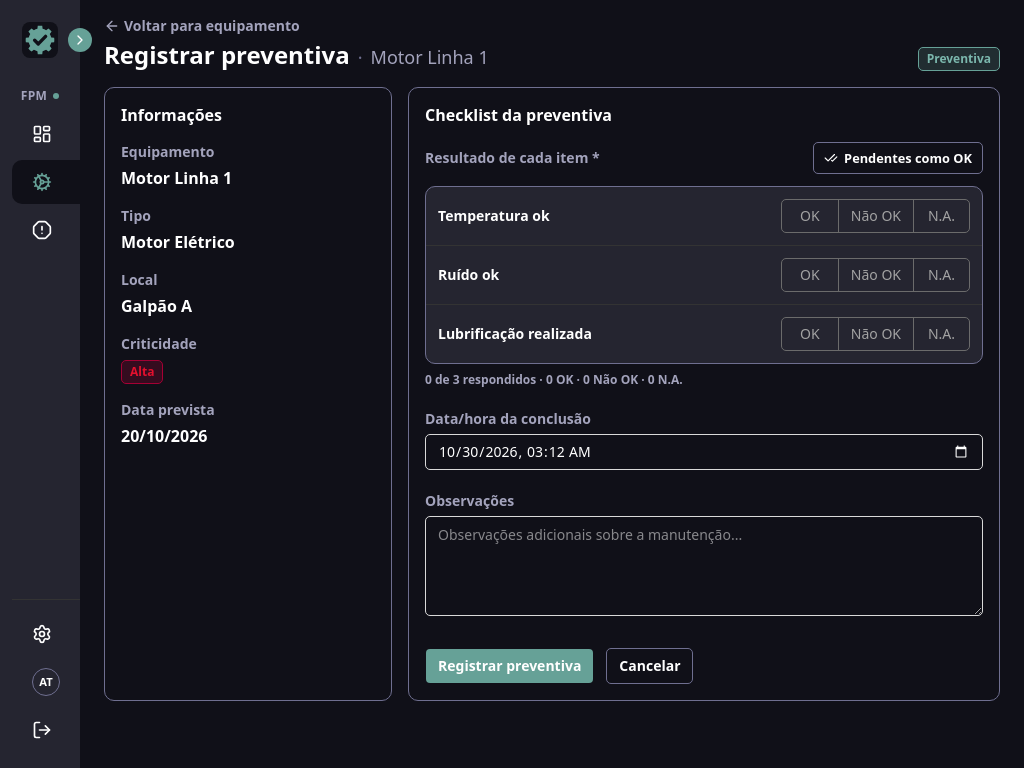
Registro de manutenção › preventiva › "Pendentes como OK" preenche os itens sem resposta
What coordinates should you click on to do the following:
click the radio button labelled "N.A." in the row of "Ruído ok"
I would click on:
 (941, 275)
Its box is [913,259,969,291].
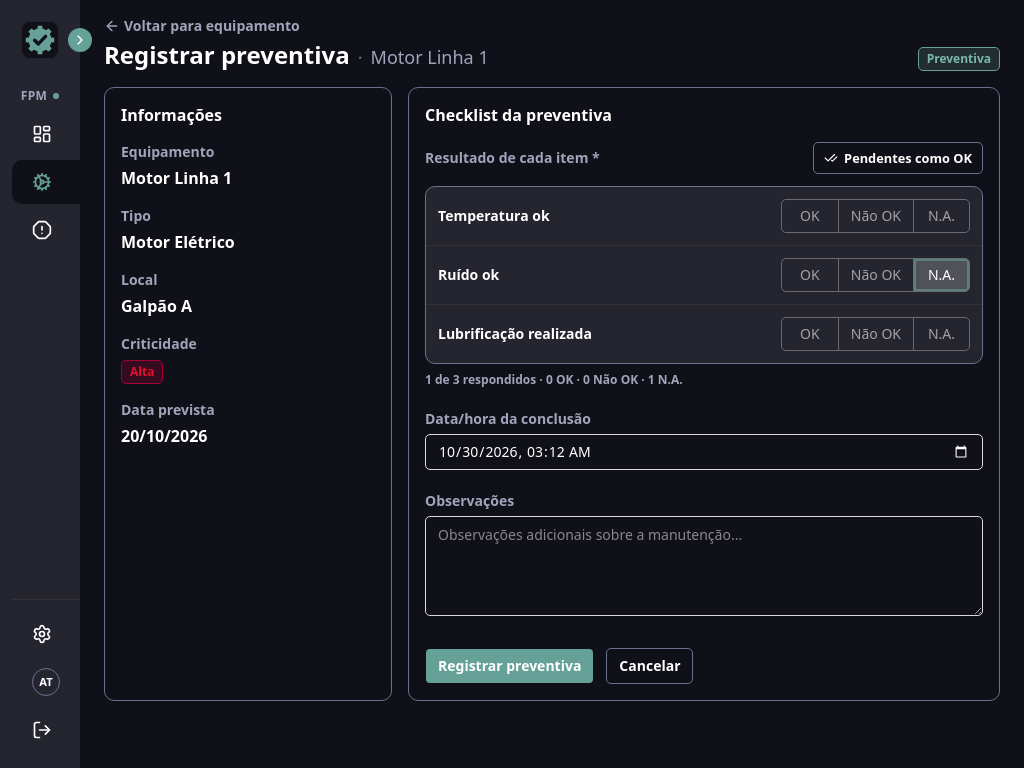
What coordinates should you click on to do the following:
click the button "Pendentes como OK"
I would click on:
 (898, 158)
Its box is [813,142,983,174].
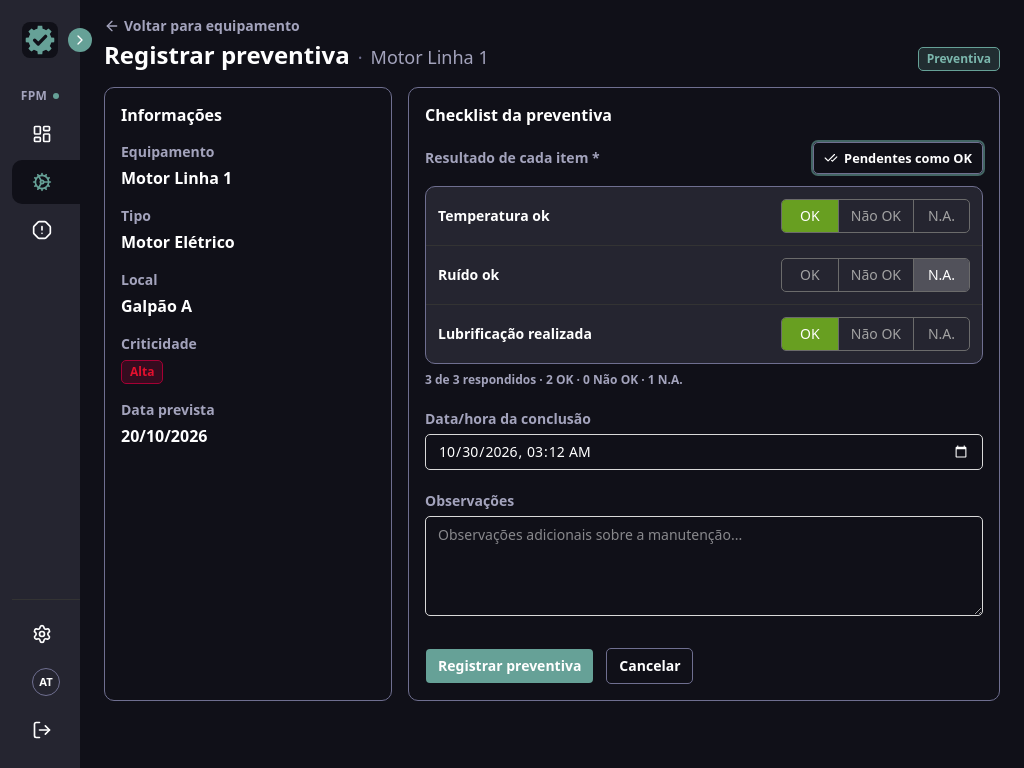
What coordinates should you click on to do the following:
click the button "Registrar preventiva"
I would click on:
 (510, 666)
Its box is [425,648,594,684].
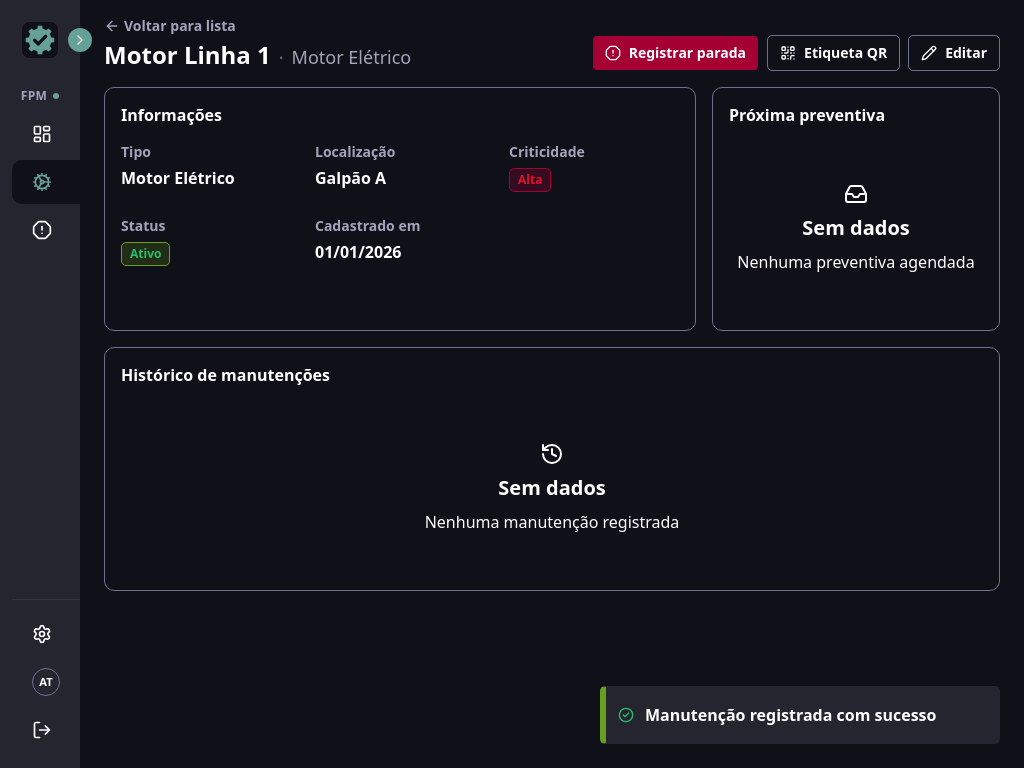
Expected: the text "Manutenção registrada com sucesso" is shown, [645,703,936,727]
